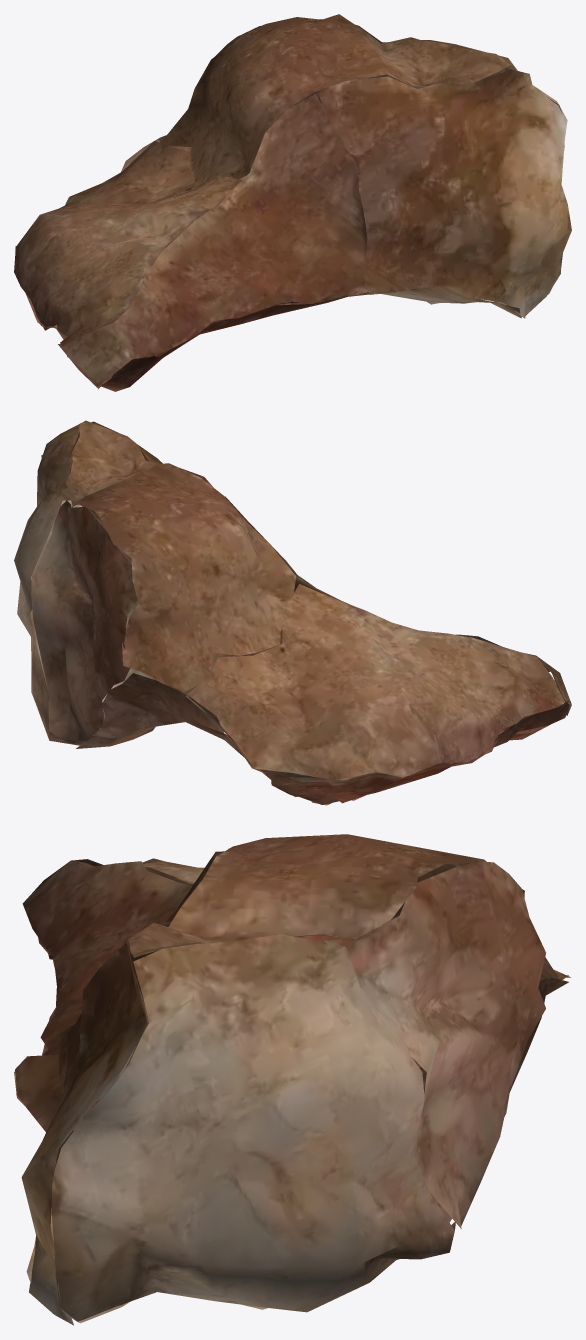
File: stone_01.glb
The picture shows the model from 3 angles, top to bottom: view 1: azimuth 30°, elevation 25°; view 2: azimuth 150°, elevation 25°; view 3: azimuth 270°, elevation 25°; orthographic projection. The views are drawn at different scales.
Parts seen in each view (by area): view 1: stone_01; view 2: stone_01; view 3: stone_01.
Part boxes in pixels (<box>): stone_01: <box>14,14,571,391</box>; stone_01: <box>14,420,571,805</box>; stone_01: <box>14,834,570,1325</box>.
Bounding box in the file's own units: 0.1457 × 0.0712 × 0.0888.
1 material, 1 textured.
